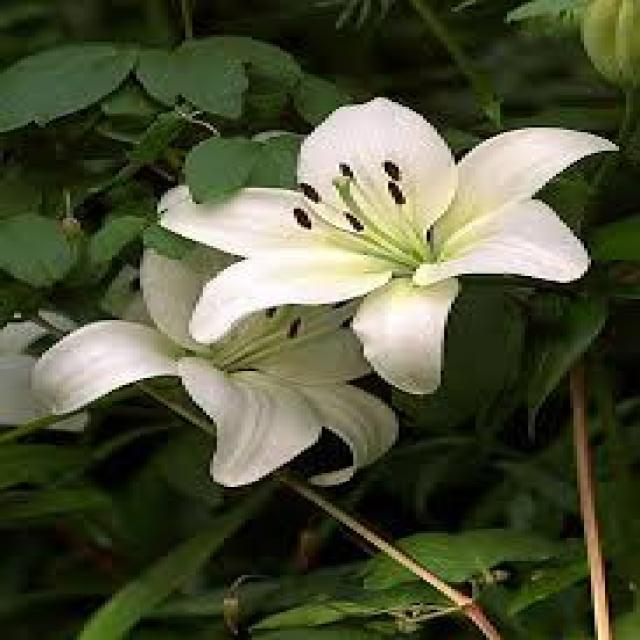lily: (136, 104, 640, 399)
